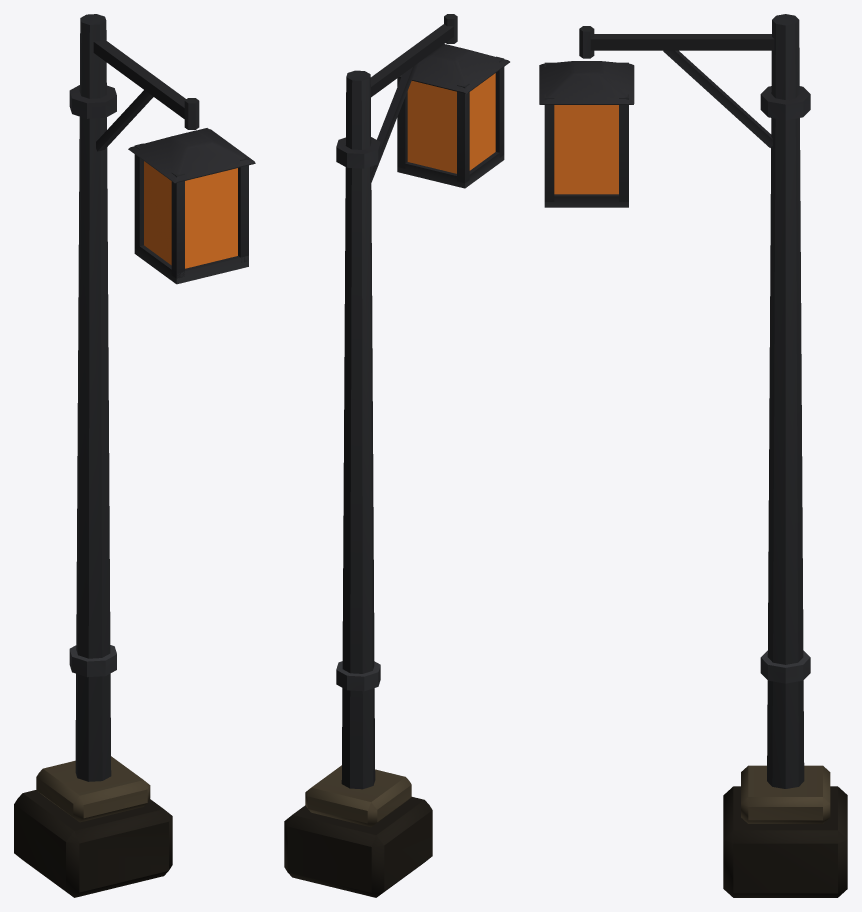
File: Poste4.fbx
The picture shows the model from 3 angles, left to right: view 1: azimuth 30°, elevation 25°; view 2: azimuth 150°, elevation 25°; view 3: azimuth 270°, elevation 25°; orthographic projection. The views are drawn at different scales.
Parts seen in each view (by area): view 1: Poste4; view 2: Poste4; view 3: Poste4.
Part boxes in pixels (x1=…): Poste4: x1=14, y1=14, x2=255, y2=897; Poste4: x1=284, y1=14, x2=509, y2=897; Poste4: x1=539, y1=14, x2=847, y2=897.
Bounding box in the file's own units: 0.5 × 3.8 × 1.24.
